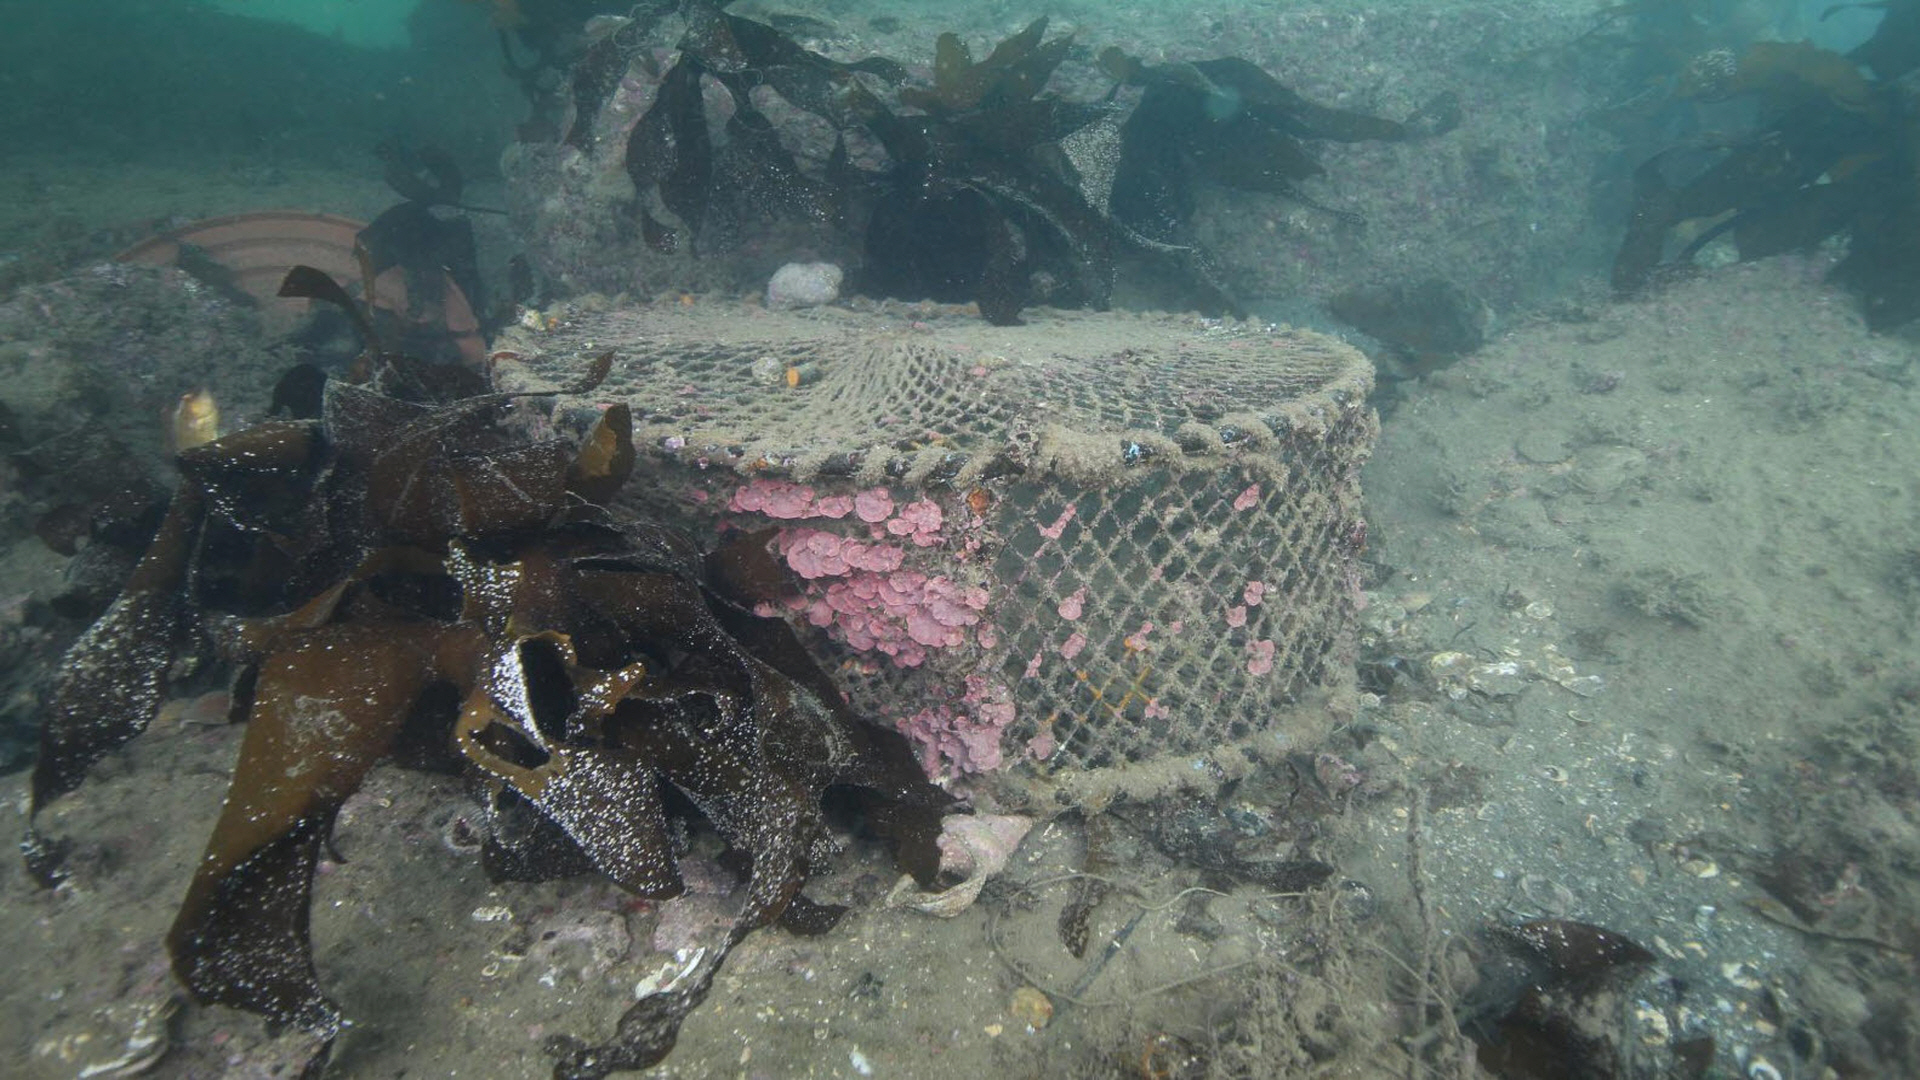circular fish trap: (487, 287, 1378, 818)
